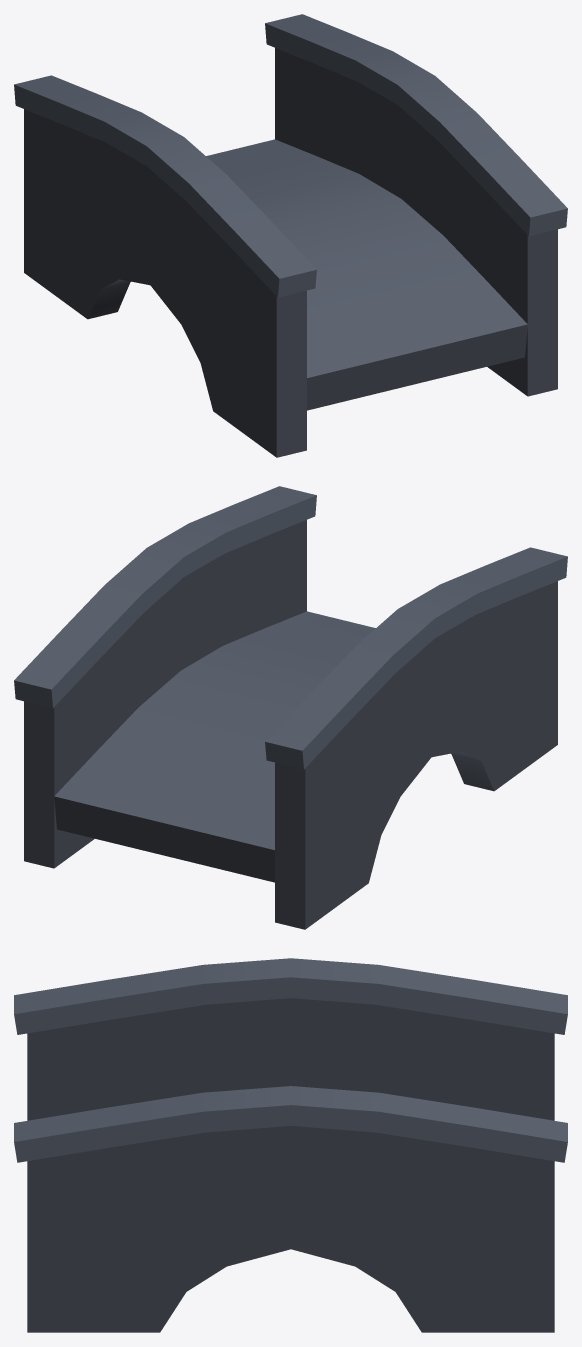
File: Bridge.fbx
3 views of the same model, one above another, from view 1: azimuth 30°, elevation 25°; view 2: azimuth 150°, elevation 25°; view 3: azimuth 270°, elevation 25° (orthographic). The views are drawn at different scales.
Parts seen in each view (by area): view 1: Bridge; view 2: Bridge; view 3: Bridge.
Part boxes in pixels (x1,y1,x2,y2): Bridge: (14,14,567,457); Bridge: (14,486,567,929); Bridge: (14,958,567,1332).
Bounding box in the file's own units: 435 × 317 × 693.
